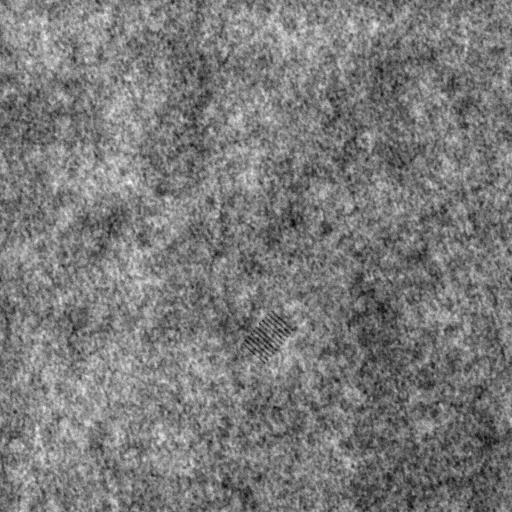DefectTypeB: (244, 311, 289, 363)
